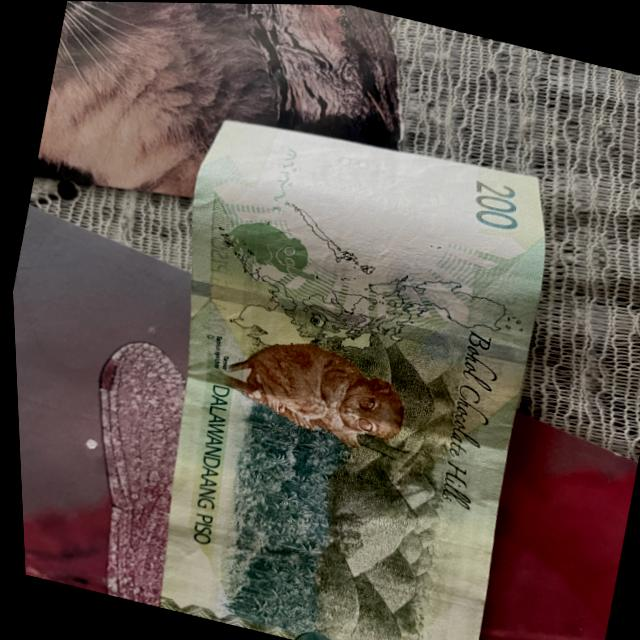200_tarsier: (199, 306, 455, 466)
200_tarsier_watermark: (206, 199, 341, 286)
